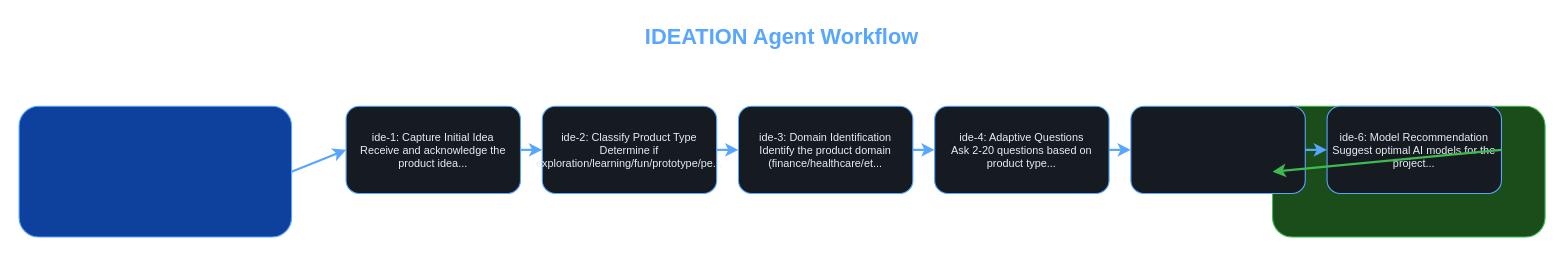
This 1564x256 diagram has some shape labels left out. The shapes that lost their labels are listed below. From the top down, each one's box as (x1, y1, x2, y2) in pixels, then its label:
(1130, 105, 1305, 193): ide-5: 360° Brainstorming Multi-perspective analysis (engineering, product, ...
(18, 105, 292, 237): Inputs: Initial product idea
(1271, 105, 1545, 237): Outputs: Product plan 360° analysis Model recommendations
